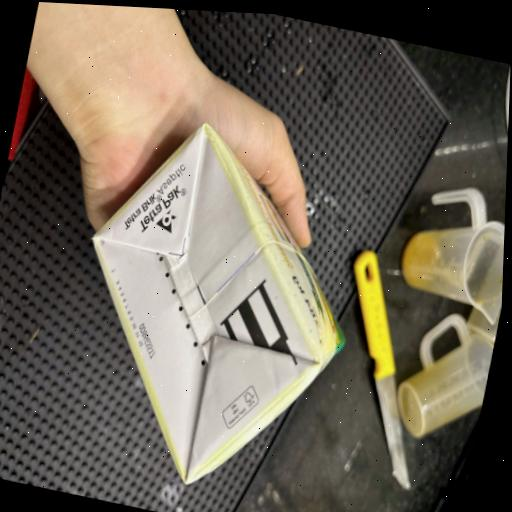sua_dac: (92, 124, 341, 483)
